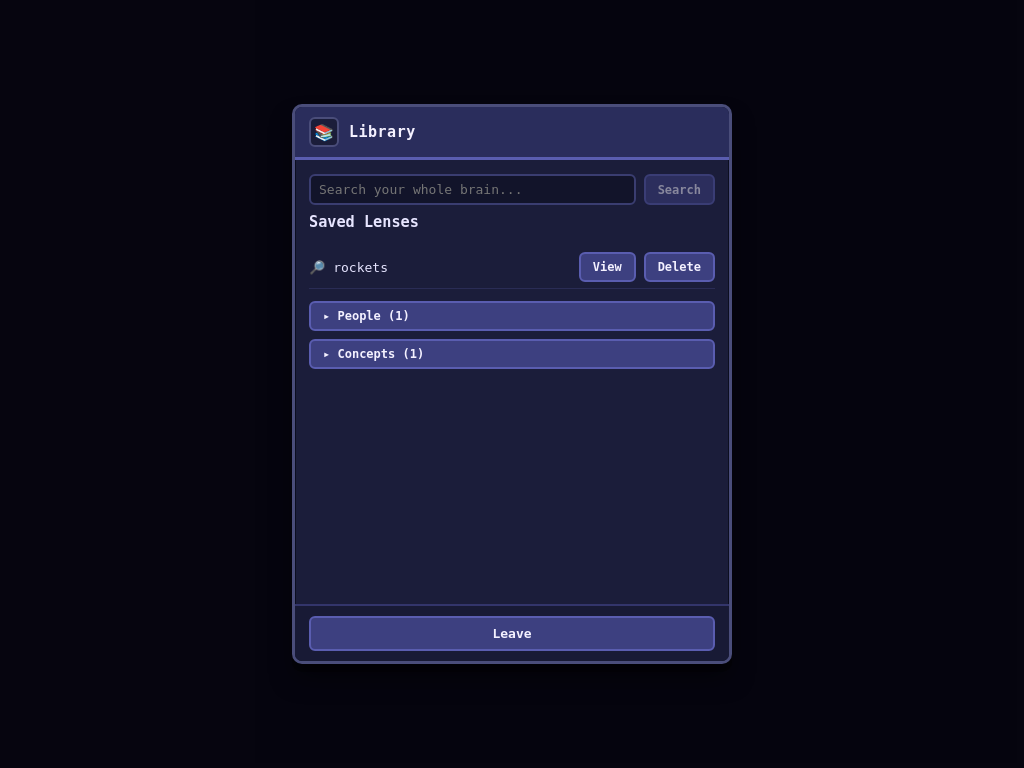
Scenario: LibraryOverlay › Lenses (lenses-revival.md, task #72) › viewing a lens filters the shelf to its real matching node ids
This screenshot has width=1024, height=768.
Expected: the text "rockets" is shown, [333,260,388,275]
Click the button "View" at (607, 267), box [579,252,636,282]
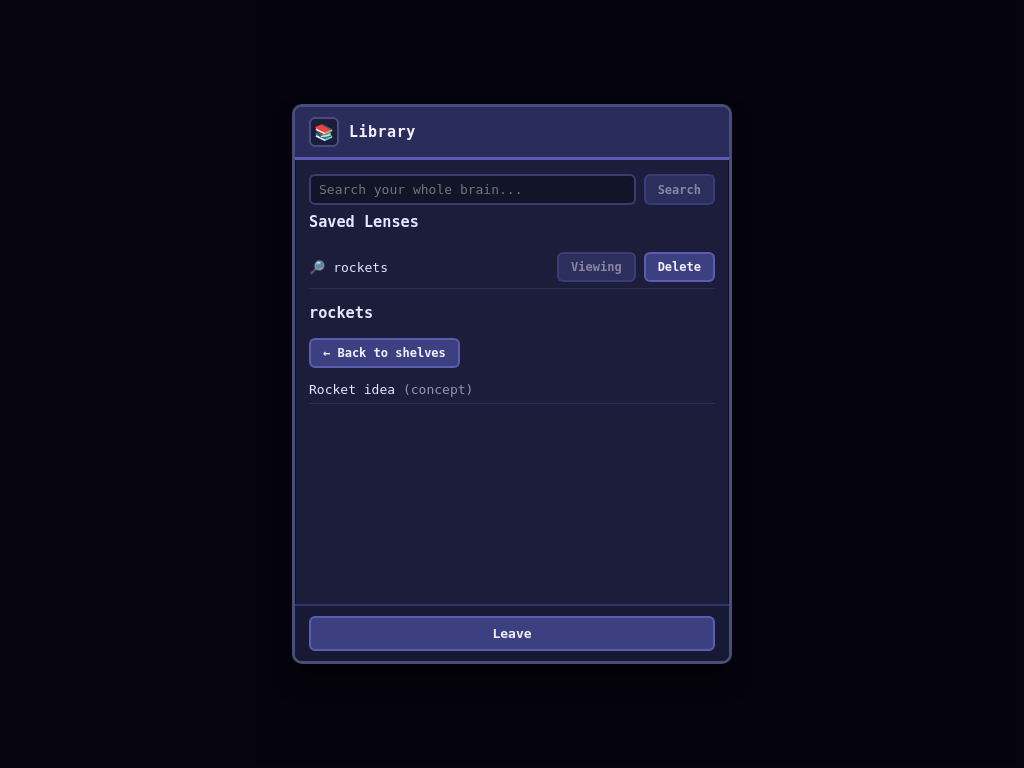
Expected: the list item "Rocket idea" is shown, [309,382,395,397]
